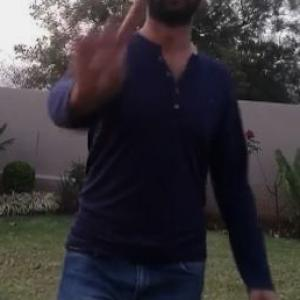takeoff-hand: (48, 0, 149, 80)
